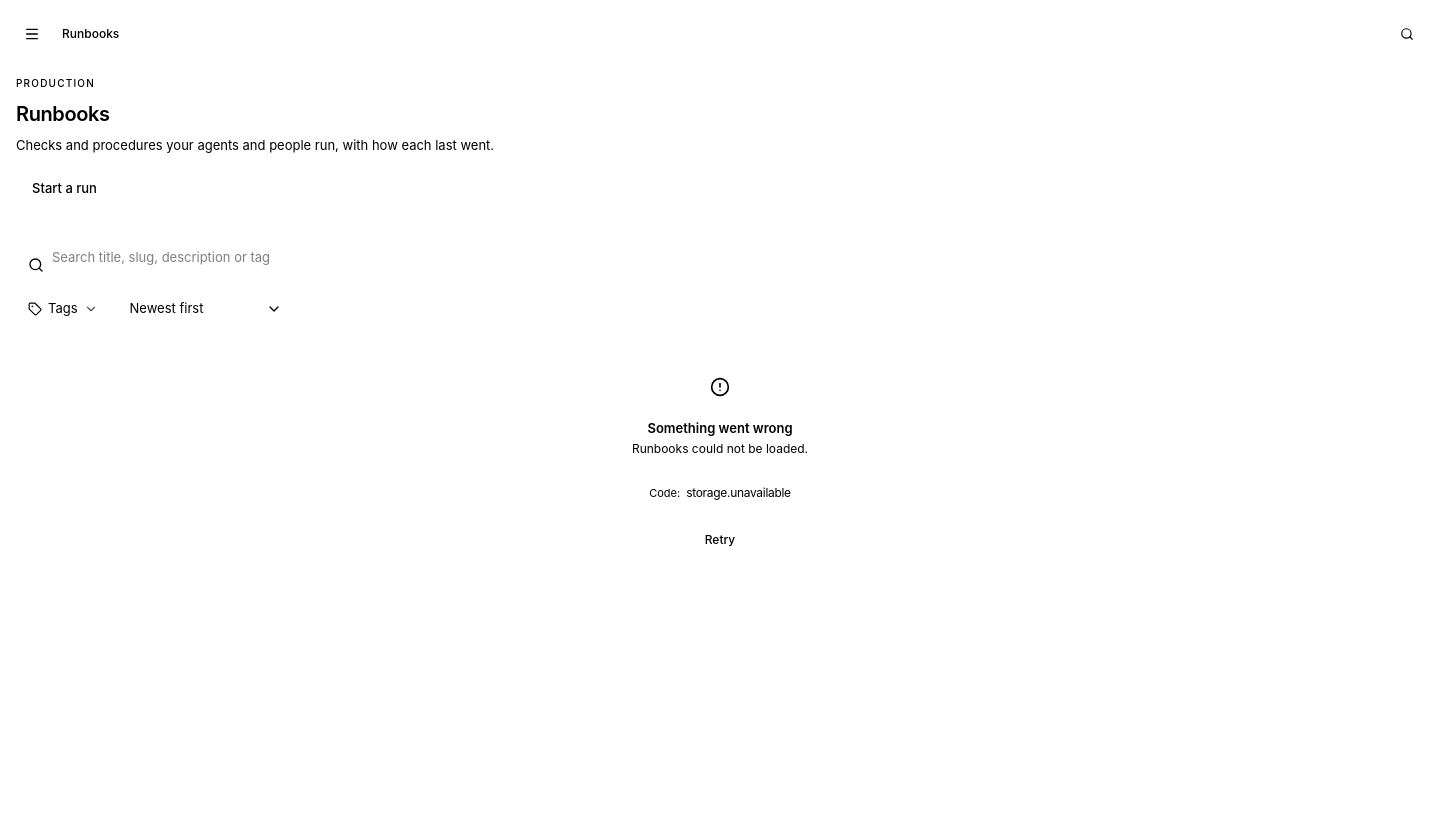
runbooks list (UI-1) › explains a failed load and retries
Expected: the message shows "Runbooks could not be loaded.", [632,441,808,456]
Click the button "Retry" at (720, 540), box [693,518,747,562]
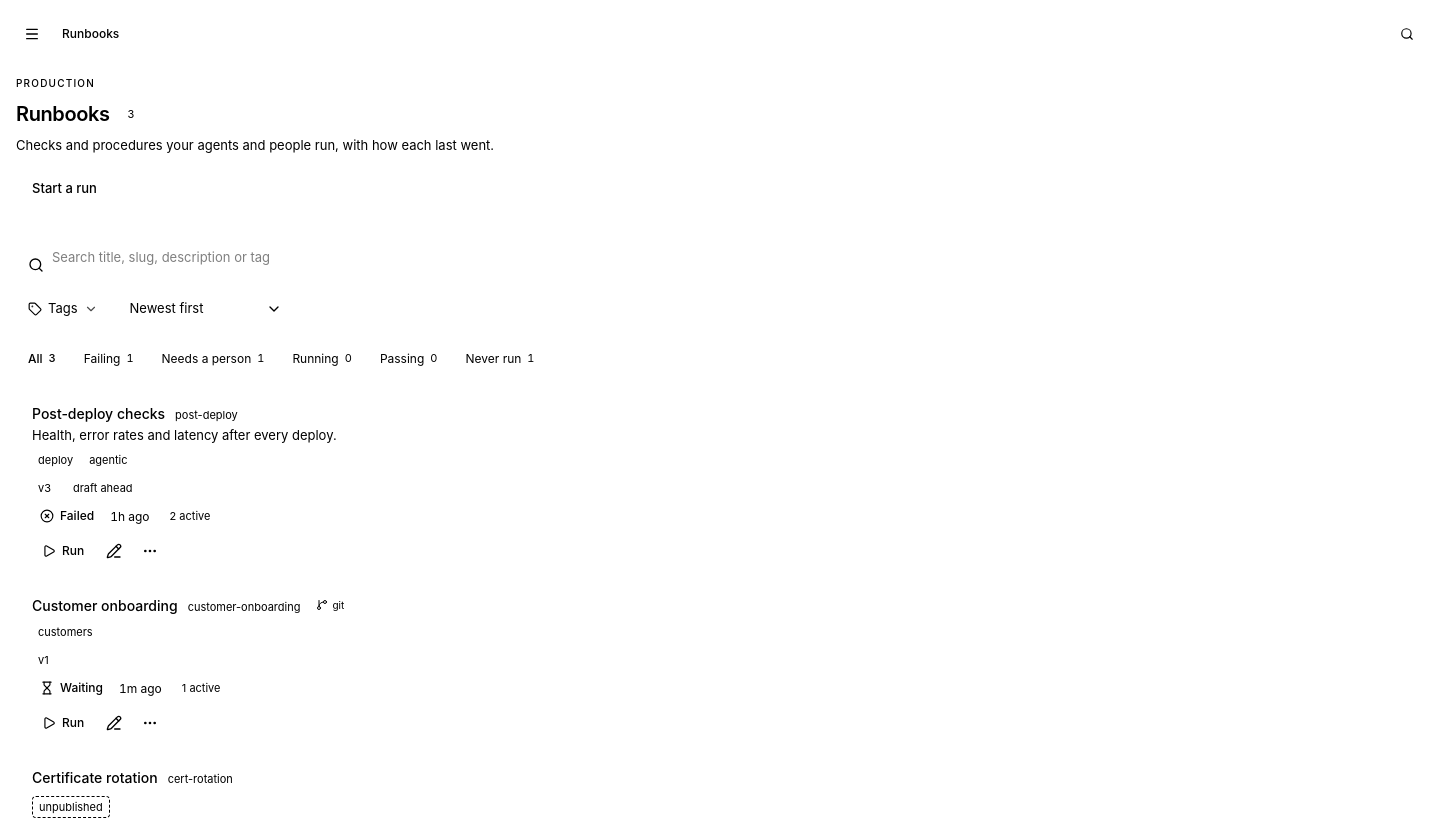
Result: the link "Post-deploy checks" is shown at [32,403,165,424]
